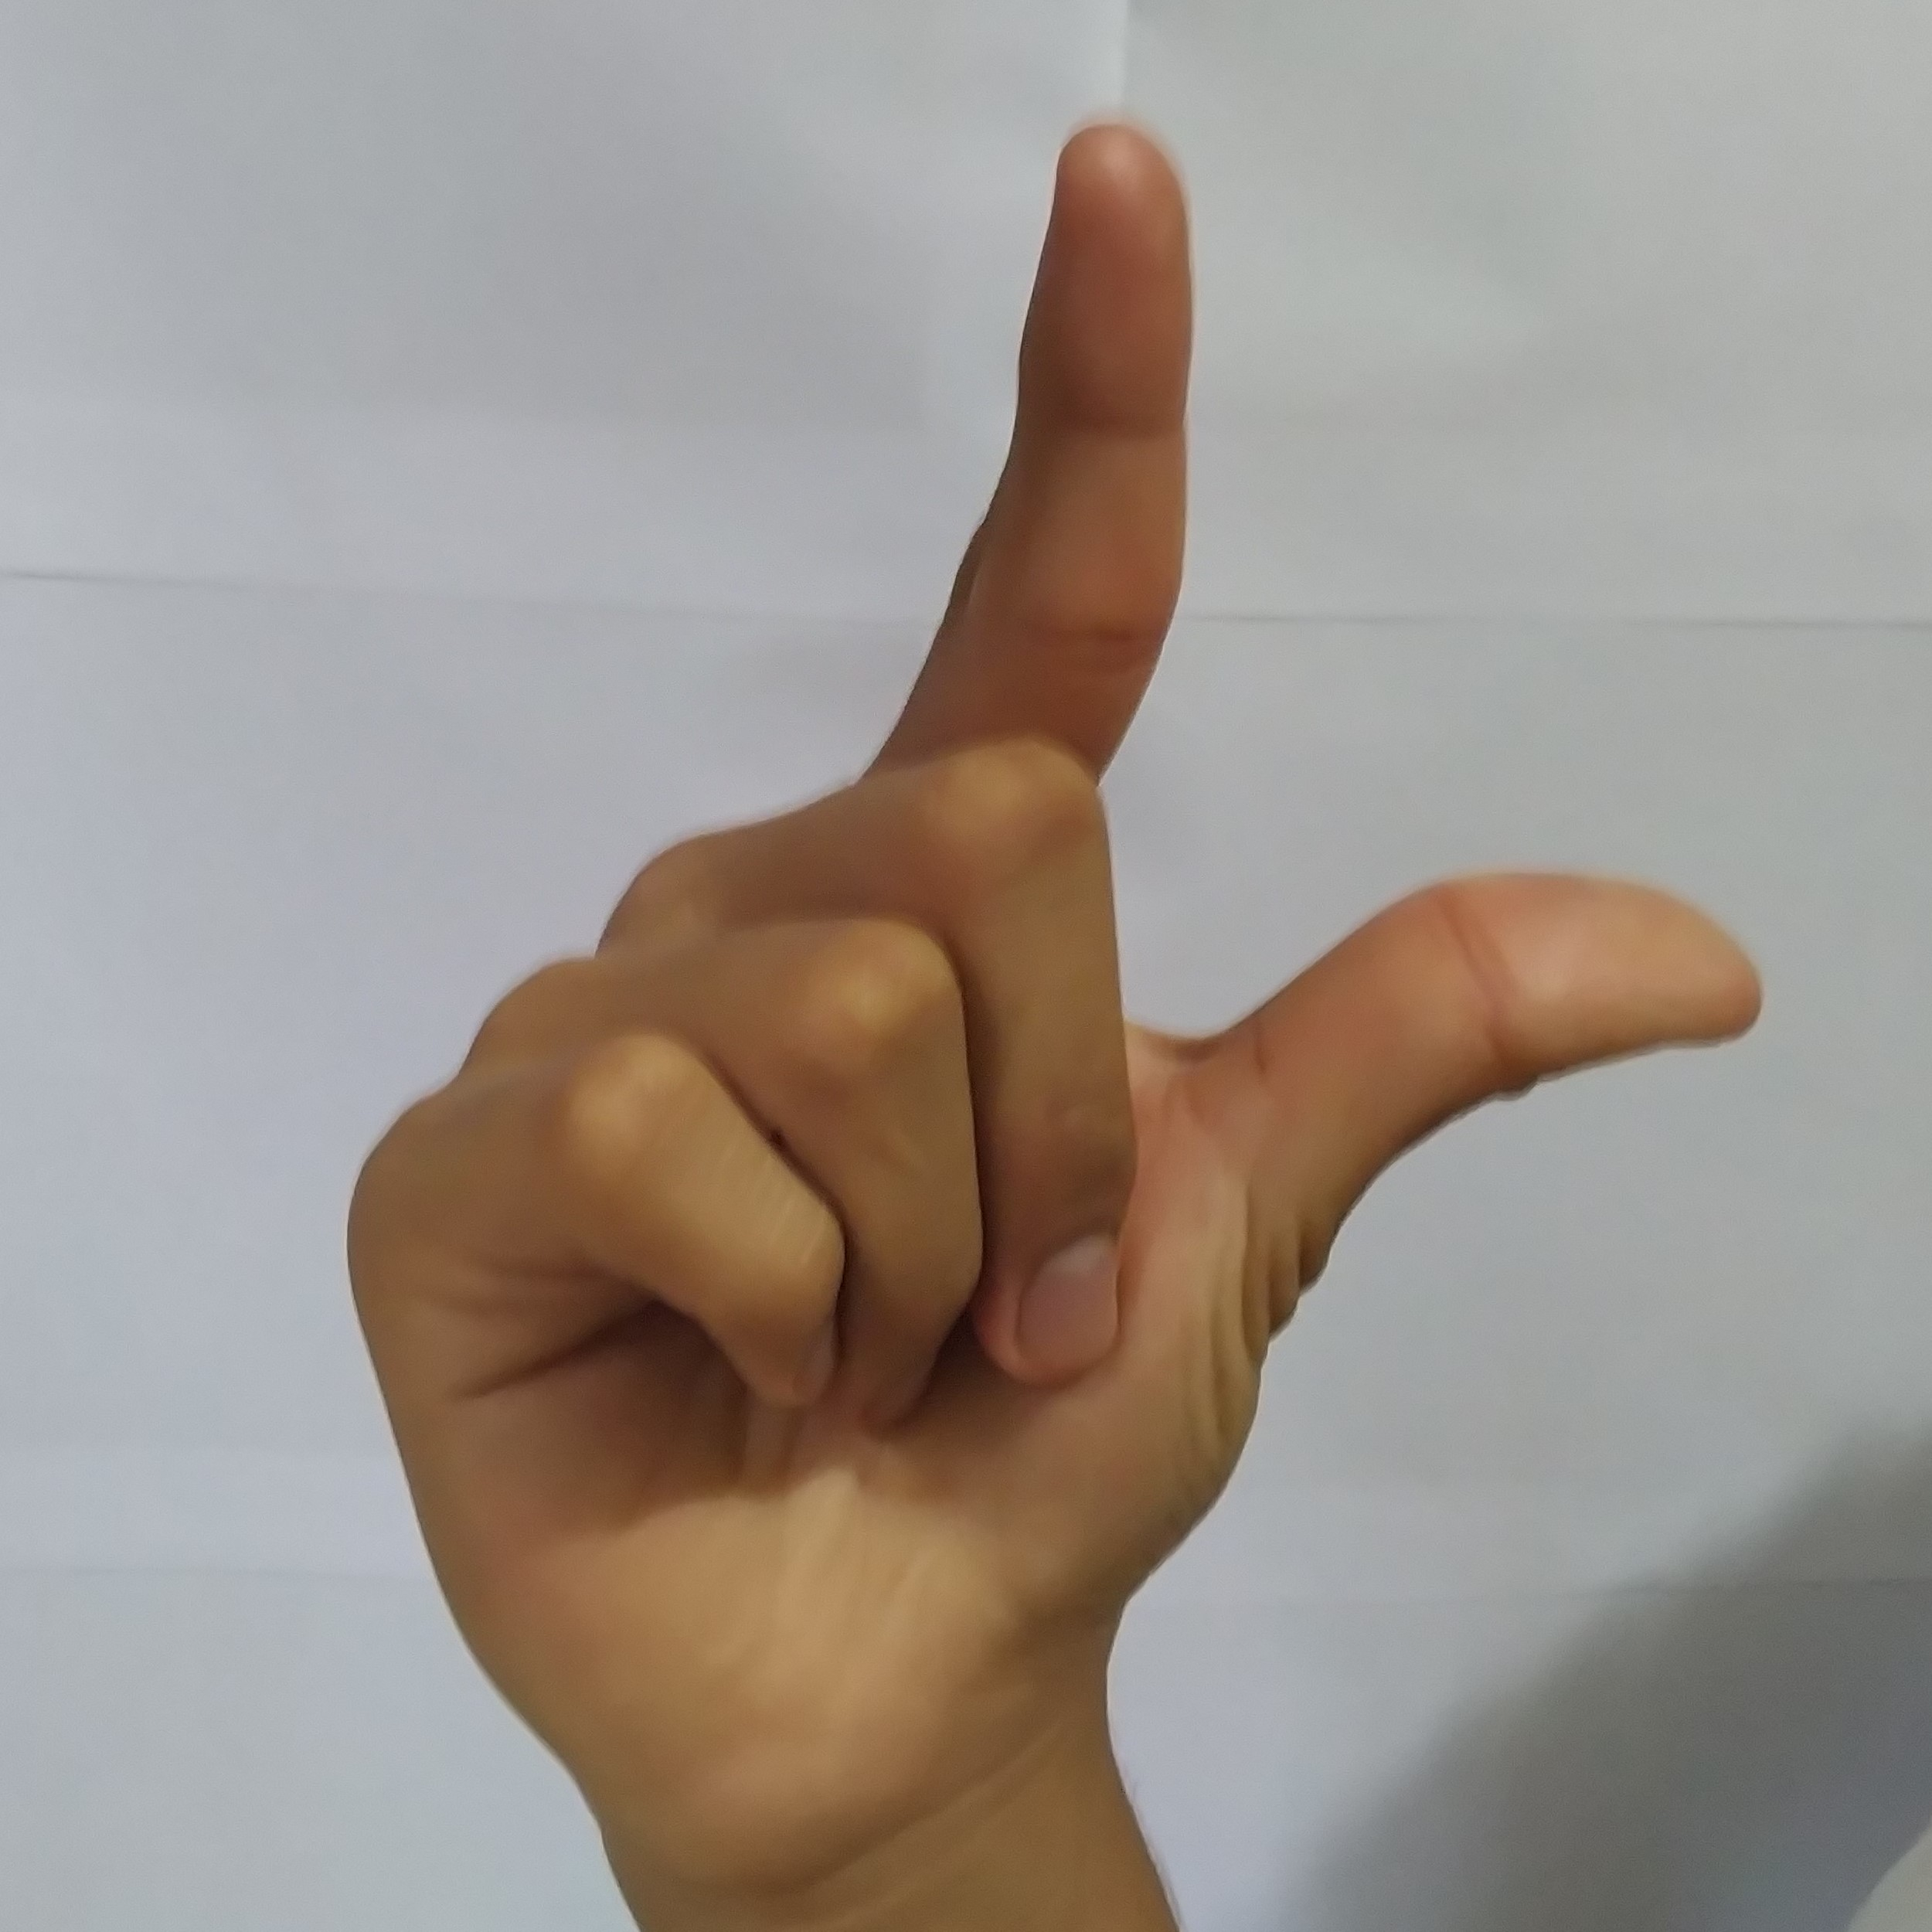L: (318, 92, 1785, 1787)
